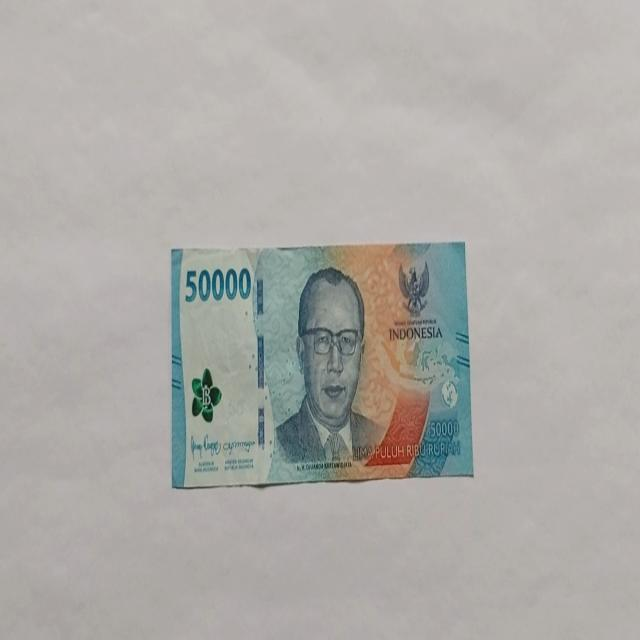lima puluh ribu rupiah: (170, 240, 474, 489), (271, 265, 387, 472)
